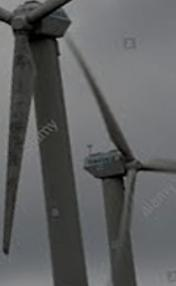working: (7, 5, 73, 105)
